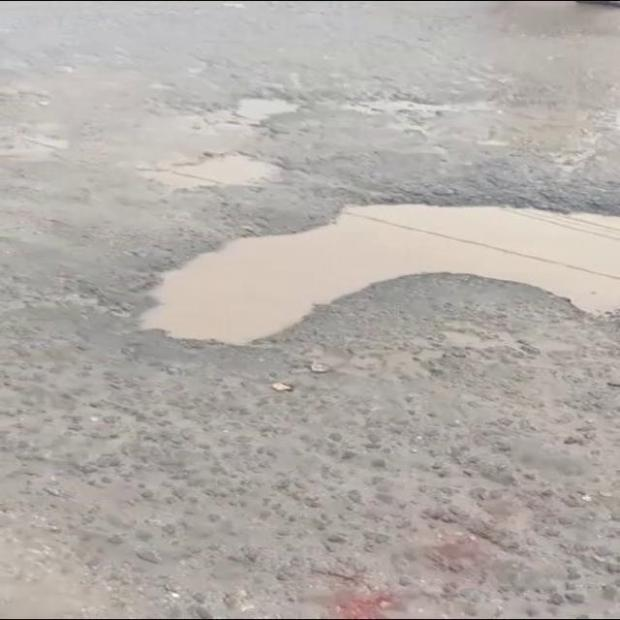lubang: (141, 204, 619, 344), (137, 98, 301, 189)
